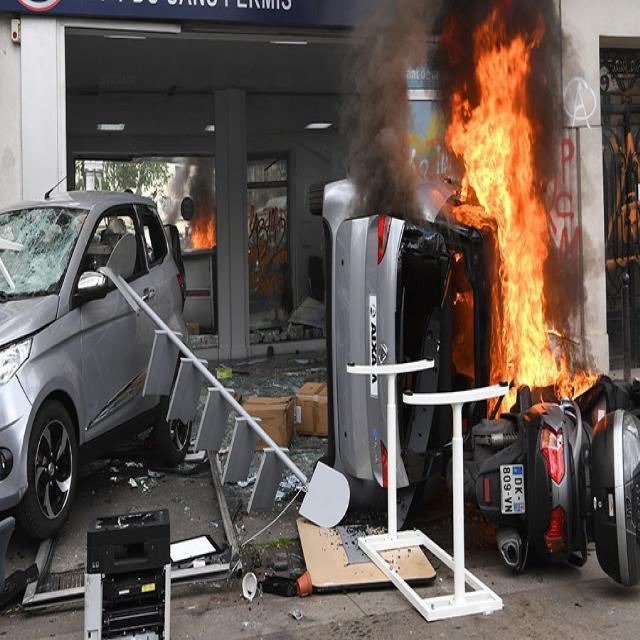Fire: (446, 29, 572, 403), (192, 217, 216, 250)
Smoke: (336, 0, 590, 320), (190, 160, 214, 220)
